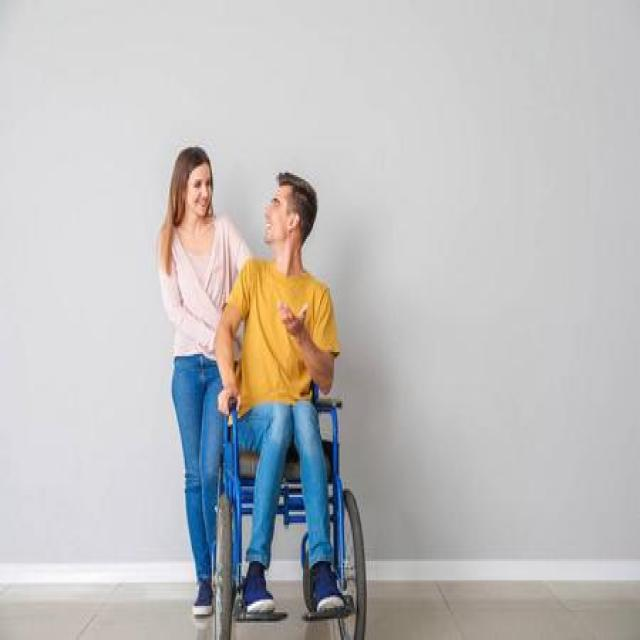wheelchairs: (202, 369, 373, 640)
